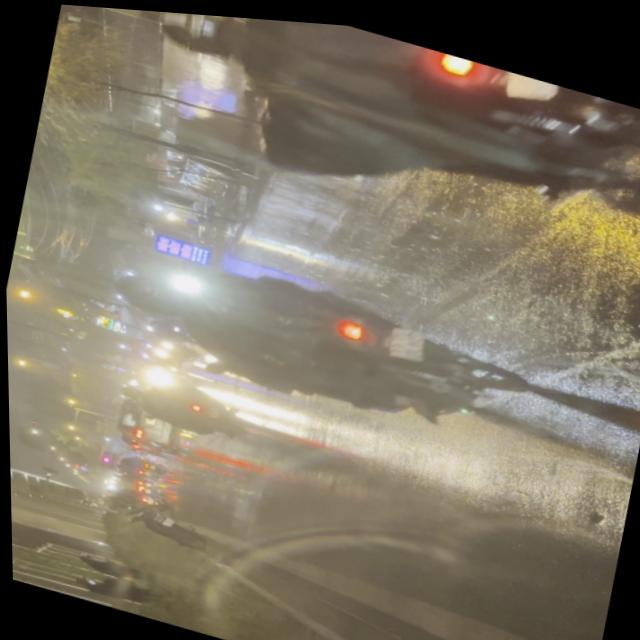helmet: (149, 9, 251, 68)
licenseplate: (126, 7, 640, 236)
nohelmet: (502, 62, 557, 98), (383, 316, 424, 356)
